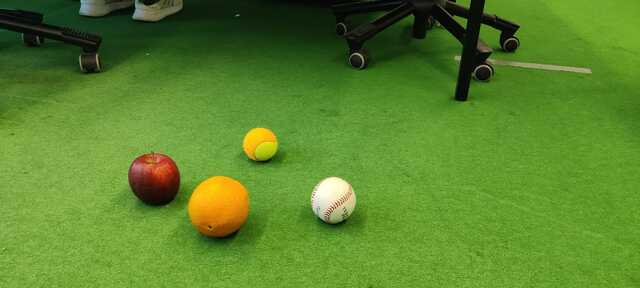013_apple: (127, 151, 180, 207)
017_orange: (187, 175, 251, 238)
055_baseball: (310, 175, 357, 225)
056_tennis_ball: (242, 126, 279, 162)
